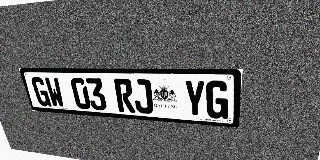0: (69, 78, 91, 110)
3: (85, 78, 107, 111)
G: (206, 80, 229, 119), (30, 77, 52, 107)
J: (132, 79, 154, 114)
R: (114, 79, 136, 113)
W: (44, 77, 66, 108)
Y: (184, 80, 205, 118)
